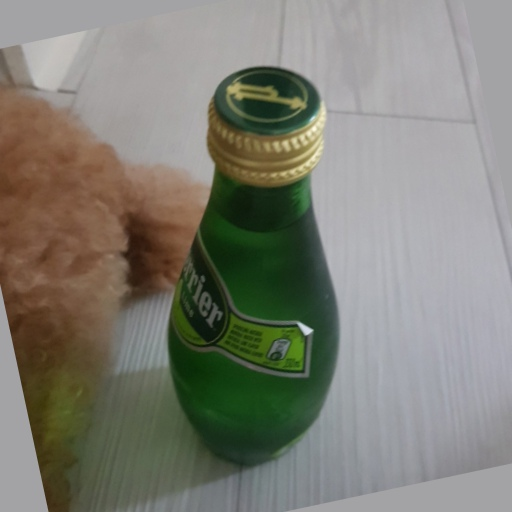Glass_4: (162, 69, 347, 469)
